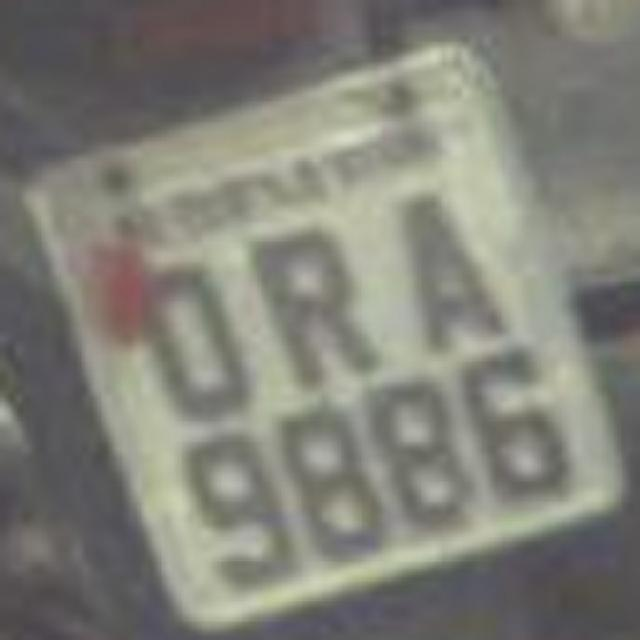6: (440, 332, 588, 516)
8: (272, 388, 400, 568), (360, 360, 488, 535)
9: (172, 408, 316, 600), (352, 356, 496, 532)
A: (368, 176, 528, 364)
R: (240, 212, 388, 396)
